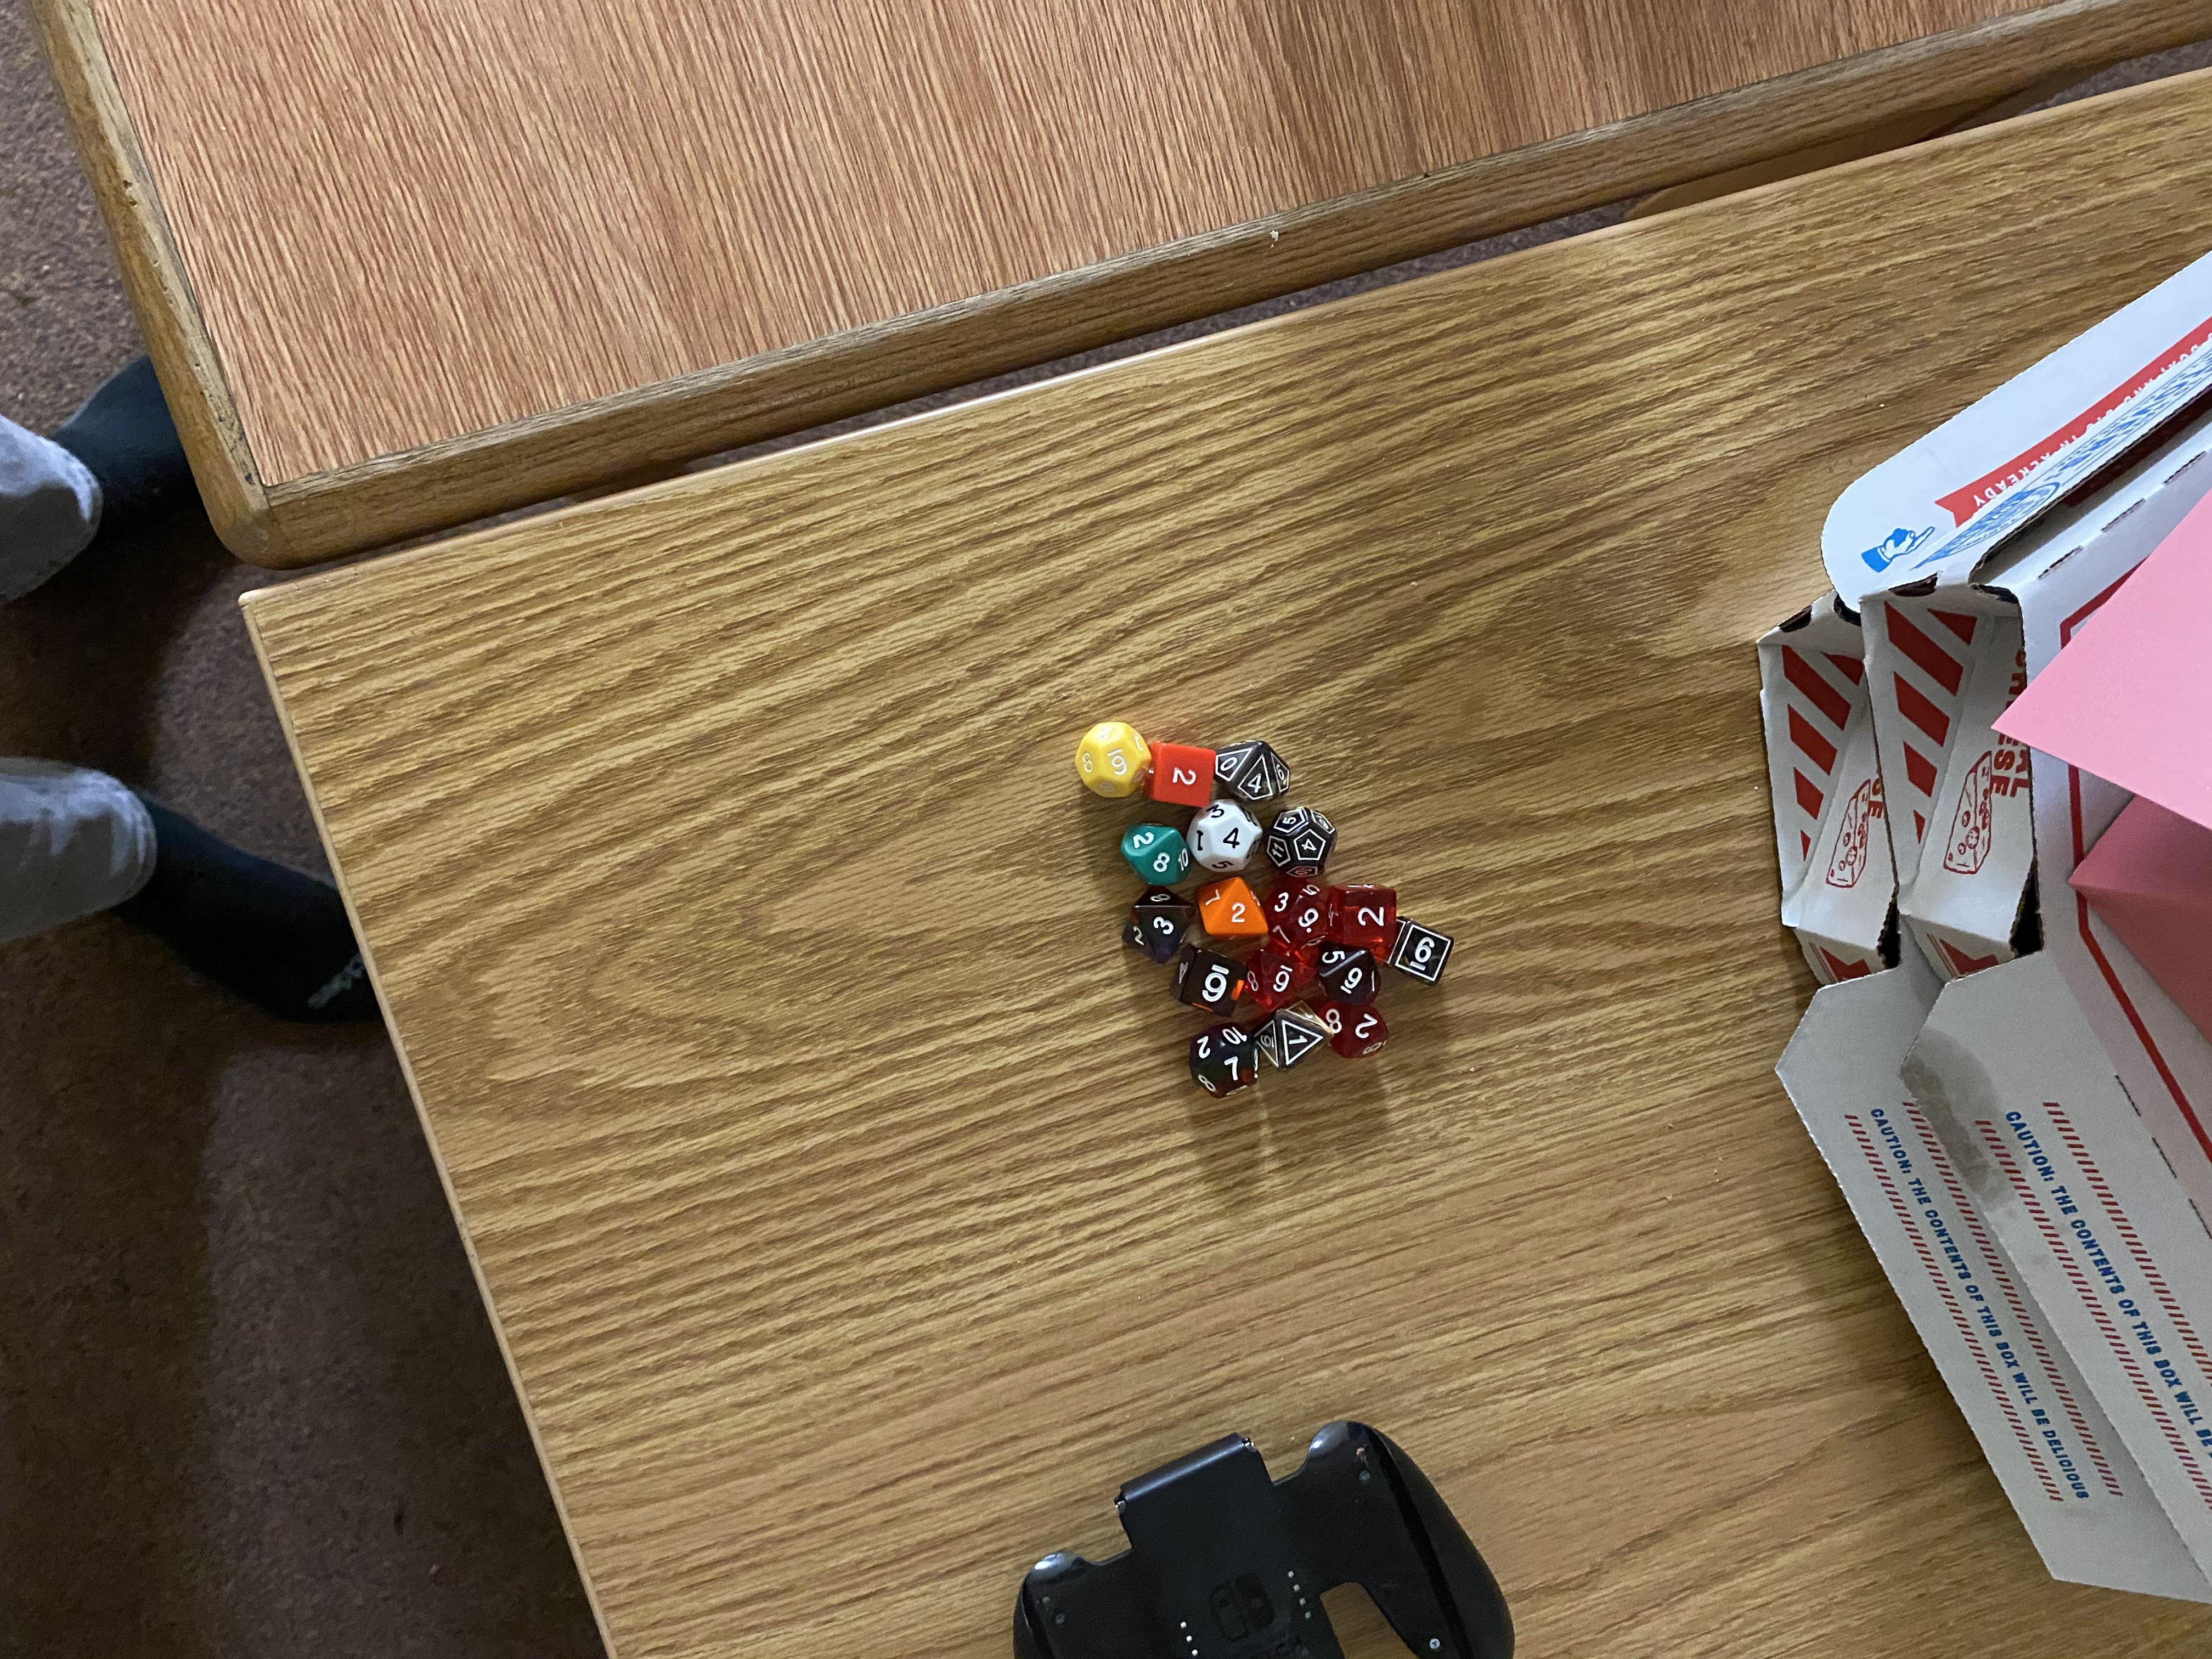eight: (1111, 812, 1202, 901)
four: (1202, 718, 1303, 807), (1256, 796, 1348, 877), (1188, 791, 1271, 870)
nine: (1313, 941, 1390, 1018), (1273, 880, 1339, 960)
one: (1256, 1000, 1336, 1073)
seven: (1179, 1016, 1266, 1107)
six: (1371, 917, 1472, 1011), (1064, 714, 1165, 807), (1165, 943, 1268, 1032)
three: (1188, 868, 1282, 969), (1106, 877, 1197, 964)
two: (1141, 735, 1221, 830), (1310, 993, 1400, 1070), (1324, 875, 1407, 953)
